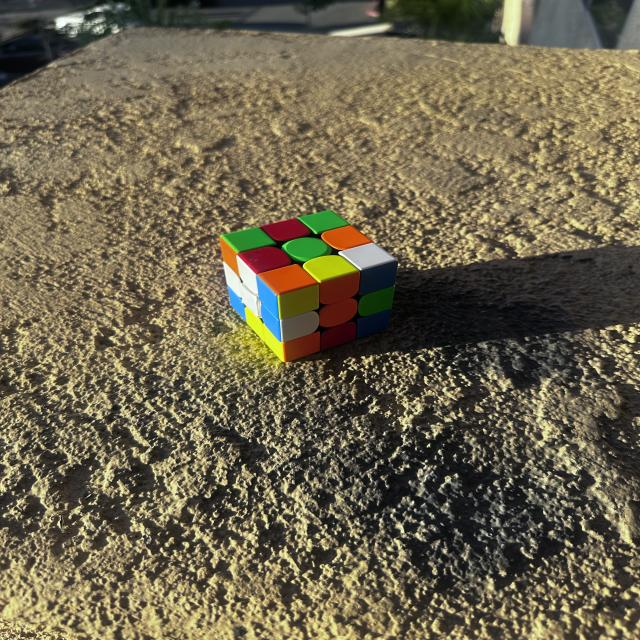sticker: (255, 264, 320, 322), (247, 311, 319, 362), (338, 240, 398, 298), (301, 254, 360, 306), (218, 226, 277, 278), (234, 247, 290, 299), (259, 303, 321, 343), (272, 282, 321, 322), (321, 225, 374, 251), (296, 210, 349, 236), (282, 237, 332, 264), (317, 320, 358, 352), (260, 218, 311, 243), (282, 330, 321, 362), (318, 299, 359, 328), (358, 285, 394, 318), (356, 308, 391, 338), (245, 309, 270, 349), (223, 260, 247, 300), (219, 239, 243, 278), (238, 280, 262, 314), (226, 282, 247, 320)
